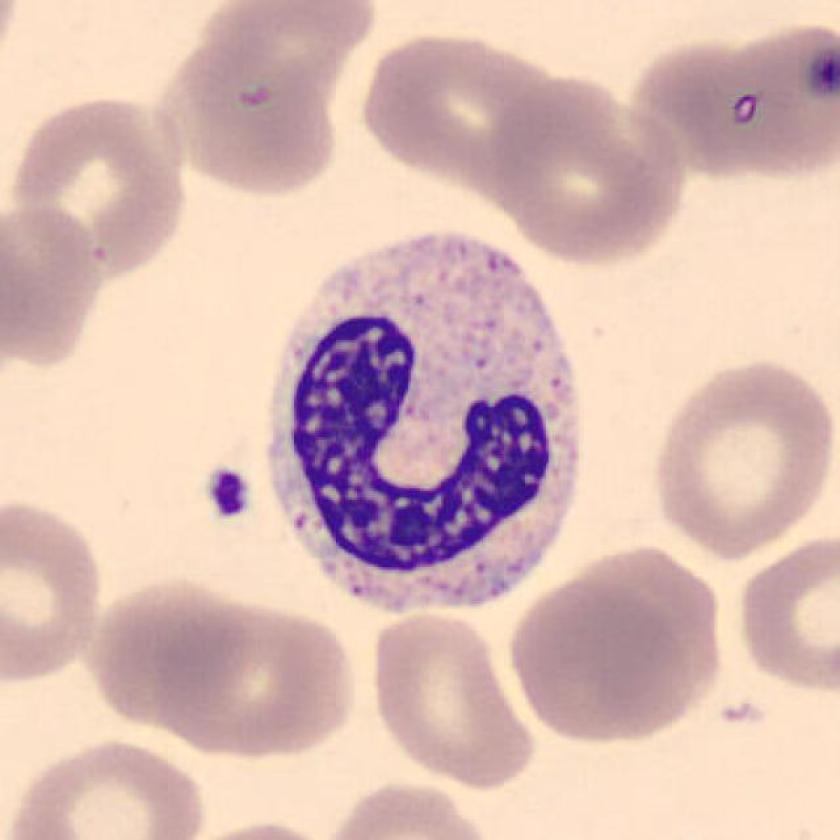neutrophil: (269, 235, 581, 611)
